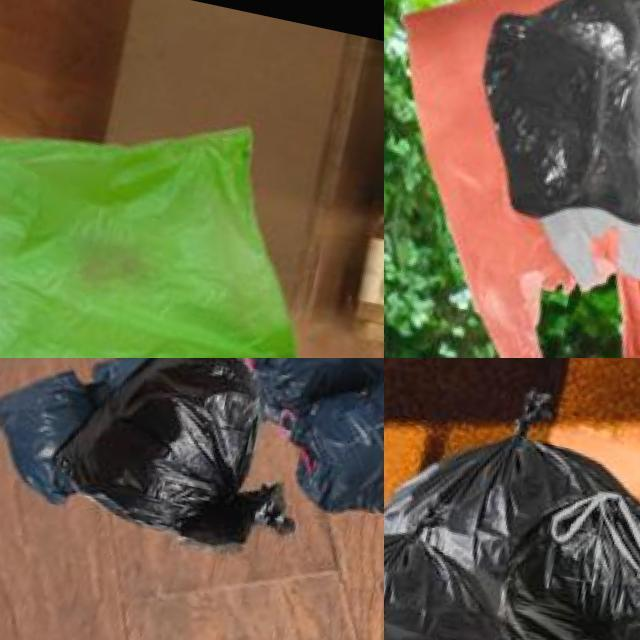waste: (0, 47, 345, 358), (384, 0, 640, 358), (384, 371, 640, 640), (39, 358, 313, 562), (457, 0, 640, 273), (282, 358, 384, 543), (0, 358, 116, 508), (231, 358, 384, 423)
